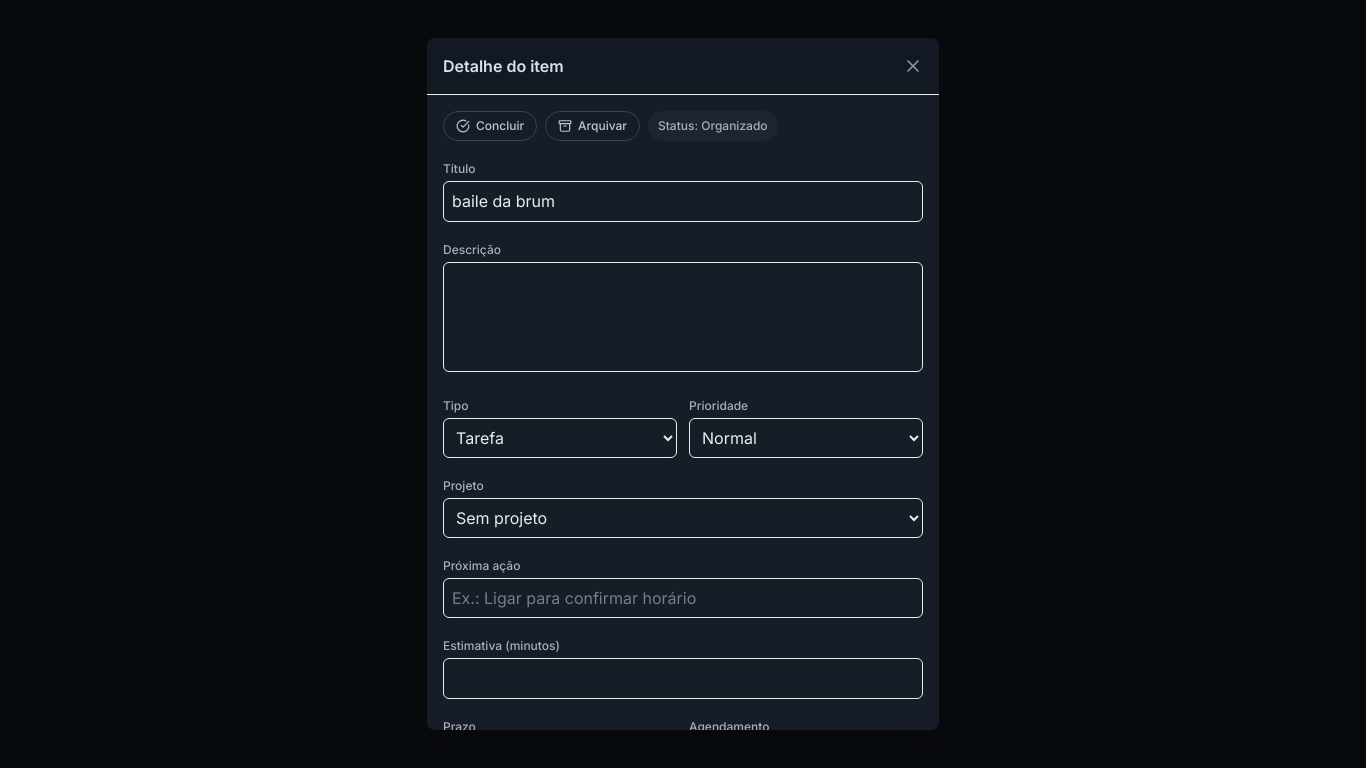
ItemDetailModal › edita título e descrição e salva usando updateItem (não grava direto no Supabase)
Replace the text in the field labelled "Título" with "Baile da Brum revisado" at (683, 202), box [443,181,923,222]
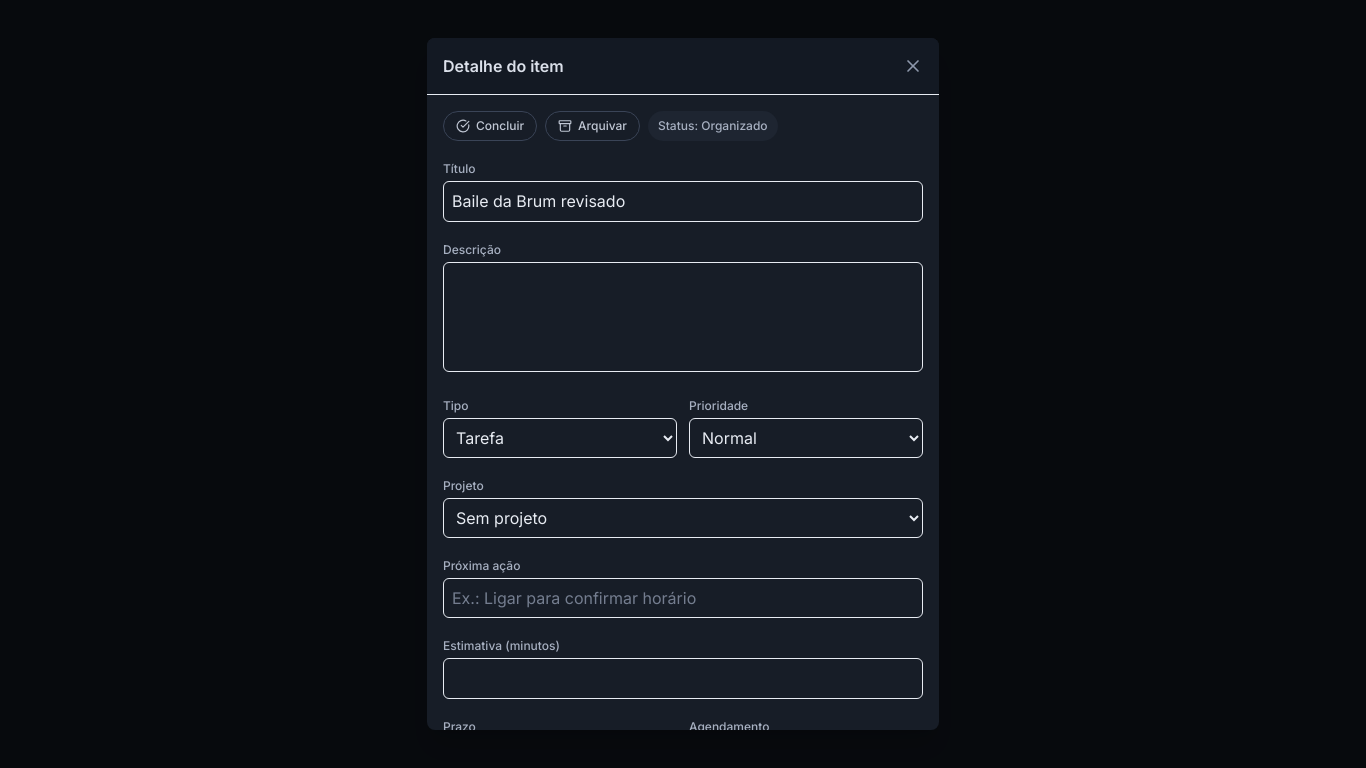
Type "Detalhes" into the text box labelled "Descrição" at (683, 317), box [443,262,923,372]
(page scrolled)
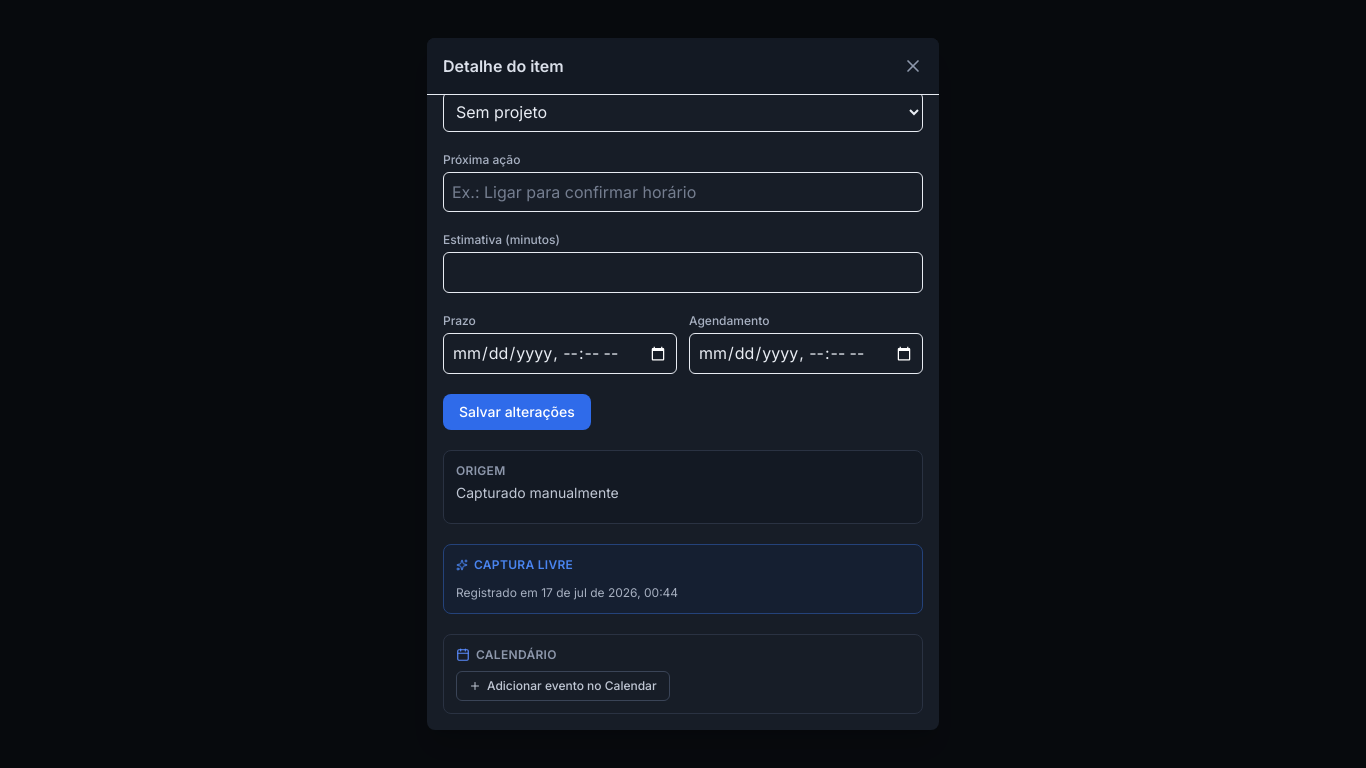
Click the button "Salvar alterações" at (517, 412), box [443,394,591,430]
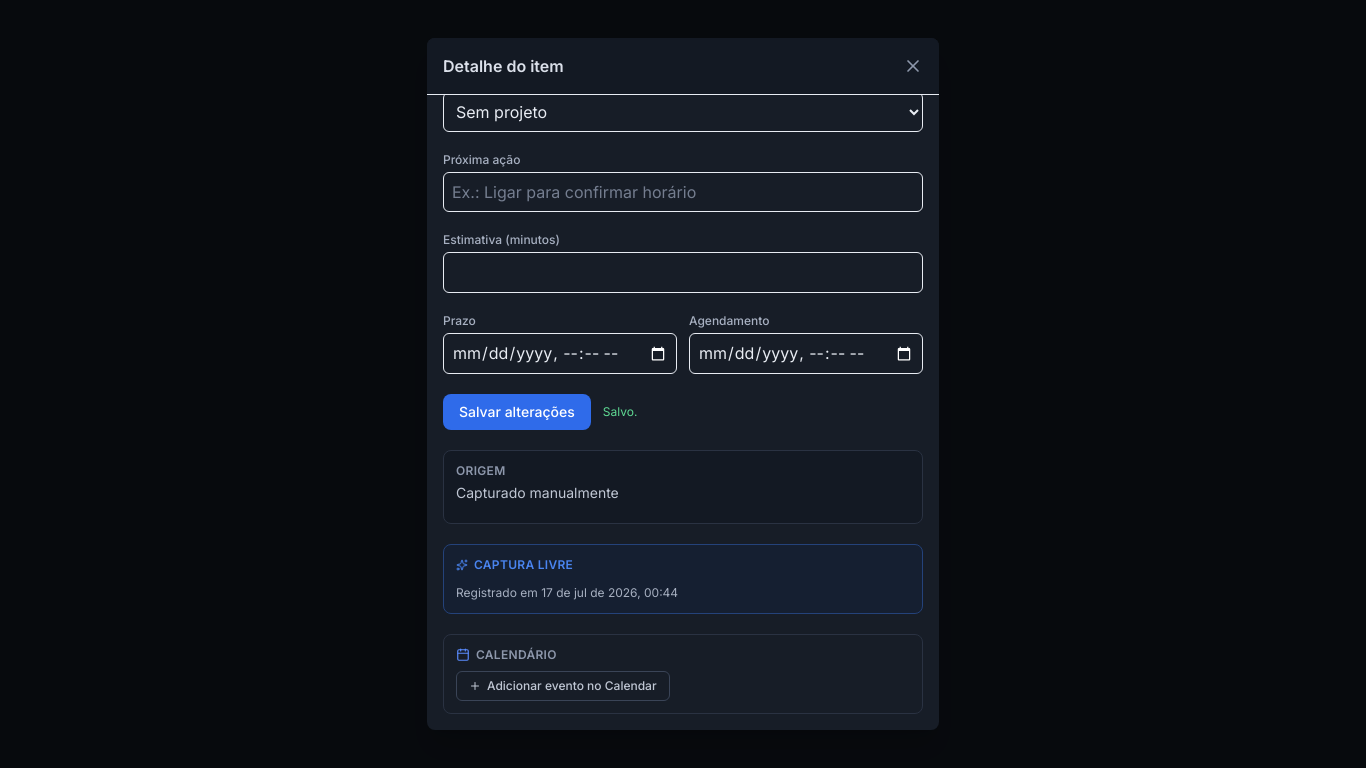
Expected: the text "Salvo." is shown, [603,404,637,420]
